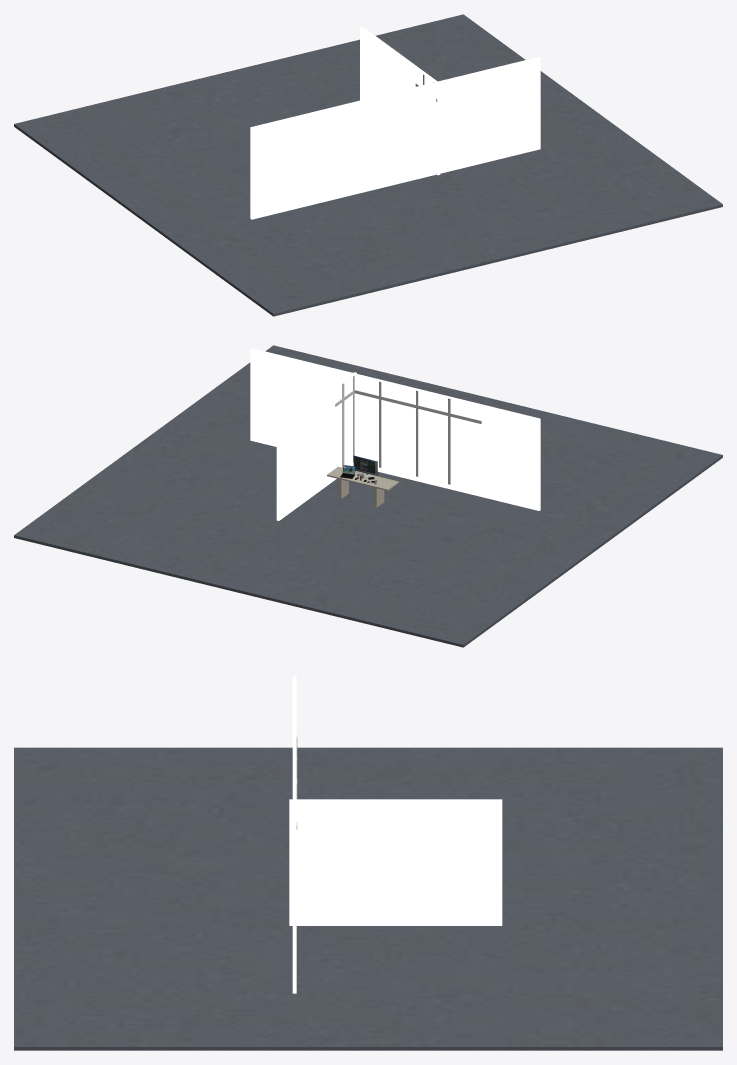
File: ours.glb
3 renders of one model, top to bottom at view 1: azimuth 30°, elevation 25°; view 2: azimuth 150°, elevation 25°; view 3: azimuth 270°, elevation 25°, orthographic. The views are drawn at different scales.
Visible parts, largest first — view 1: floor_0, wall_0, wall_1; view 2: floor_0, wall_0, wall_1, desk_0; view 3: floor_0, wall_1, wall_0.
Boxes of the visible parts, x1,y1,x2,y2 form: floor_0: (14, 14, 722, 316); wall_0: (250, 57, 540, 219); wall_1: (360, 26, 440, 175); floor_0: (14, 345, 722, 647); wall_0: (250, 348, 540, 510); wall_1: (276, 372, 356, 520); desk_0: (327, 466, 398, 507); floor_0: (14, 747, 722, 1050); wall_1: (289, 799, 502, 925); wall_0: (292, 676, 296, 993).
Size of the model in its own units: 14 by 2.8 by 14.
Materials: 17 (17 with a texture image).
